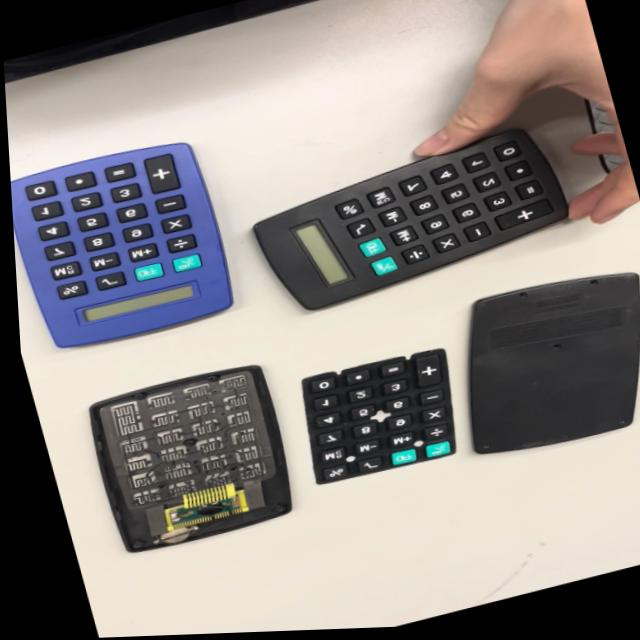back_cover: (428, 248, 640, 480)
calculator: (234, 107, 592, 329), (8, 124, 250, 364)
front_panel: (83, 354, 305, 562)
number_pad: (276, 337, 471, 499)
